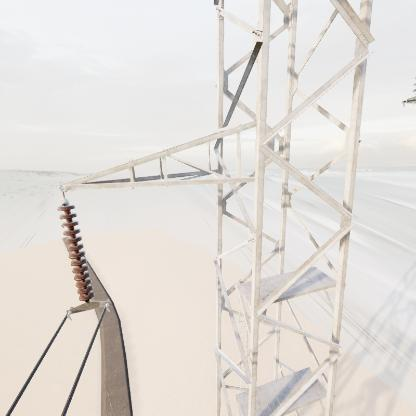insulator: (53, 199, 97, 303)
